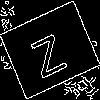Z: (24, 25, 68, 79)
